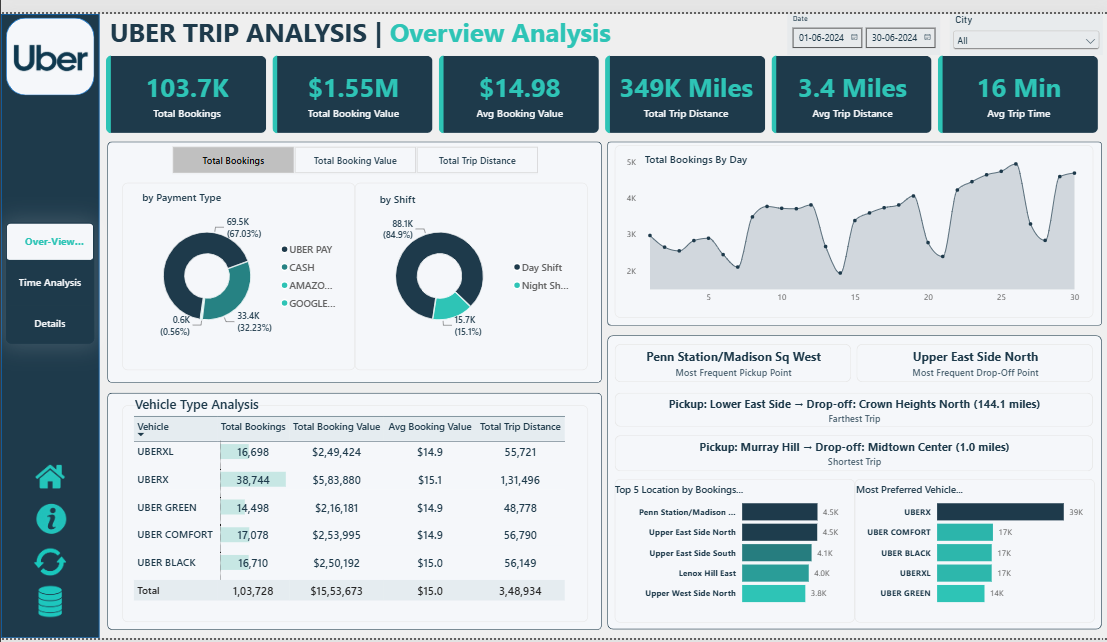

This screenshot's page, from the dashboard's own definition file:
{"tool":"powerbi","page":{"name":"Over-View Analysis","canvas":[1600,900],"ordinal":0},"visuals":[{"type":"shape","box":[875.4,463.4,713.7,424.5],"z":0},{"type":"shape","box":[153.1,183.5,713.7,348.3],"z":1000},{"type":"shape","box":[0,0,142,900.3],"z":2000},{"type":"textbox","box":[157,0,729.3,59.1],"z":3000},{"type":"cardVisual","fields":{"Data":["Measure.Total Bookings","Measure.Total Booking Amount","Measure.Avg Booking Amount","Measure.Total Trip Distance","Measure.Avg Trip Distance","Measure.Avg Trip Time"]},"box":[152.4,59.1,1436.8,113.5],"z":4000},{"type":"slicer","fields":{"Values":["Dynamic Measure.Dynamic Measure"]},"box":[227.7,189.7,566,42],"z":5000},{"type":"donutChart","fields":{"Category":["fact_ubertrip.PaymentType"],"Y":["Measure.Total Bookings"]},"box":[174.2,244.1,335.9,270.6],"z":6000},{"type":"textbox","box":[203.7,255,138.4,29.5],"z":7000},{"type":"donutChart","fields":{"Category":["fact_ubertrip.Trip Shift"],"Y":["Measure.Total Bookings"]},"box":[510,244.1,335.9,270.6],"z":8000},{"type":"textbox","box":[545.8,256.6,158.6,28],"z":9000},{"type":"shape","box":[153.1,545.8,713.7,342.1],"z":10000},{"type":"pivotTable","fields":{"Rows":["fact_ubertrip.Vehicle"],"Values":["Measure.Total Bookings","Measure.Total Booking Value","Measure.Avg Booking Value","Measure.Total Trip Distance."]},"box":[174.2,564.4,671.7,312.5],"z":11000},{"type":"textbox","box":[192.8,550.5,191.3,28],"z":12000},{"type":"shape","box":[875.4,183.5,713.7,265.9],"z":13000},{"type":"areaChart","fields":{"Category":["Calendar.Date.Variation.Date Hierarchy.Day"],"Y":["Measure.Total Bookings"]},"box":[886.3,189.7,690.4,248.8],"z":14000},{"type":"textbox","box":[928.3,199,157,32.7],"z":15000},{"type":"cardVisual","fields":{"Data":["Measure.Most Frequent Pickup Point","Measure.Most Frequent Drop-Off Point"]},"box":[886.3,475.8,690.4,56],"z":16000},{"type":"cardVisual","fields":{"Data":["Measure.Farthest Trip"]},"box":[886.3,545.8,690.4,49.8],"z":17000},{"type":"cardVisual","fields":{"Data":["Measure.Shortest Trip"]},"box":[886.3,608,690.4,52.9],"z":18000},{"type":"barChart","fields":{"Category":["dim_location.Location"],"Y":["Measure.Total Bookings"]},"box":[886.3,670.2,346.8,206.8],"z":19000},{"type":"textbox","box":[886.3,676.4,300.1,40.4],"z":20000},{"type":"barChart","fields":{"Category":["fact_ubertrip.Vehicle"],"Y":["CountNonNull(fact_ubertrip.PULocationID)"]},"box":[1231.5,670.2,346.8,206.8],"z":21000},{"type":"textbox","box":[1233.1,676.4,300.1,40.4],"z":22000},{"type":"slicer","fields":{"Values":["Calendar.Date"]},"box":[1133.6,0,220.8,59.1],"z":23000},{"type":"slicer","fields":{"Values":["dim_location.City"]},"box":[1368.4,0,220.8,59.1],"z":24000},{"type":"shape","box":[7.8,4.7,127.5,112],"z":25000},{"type":"pageNavigator","box":[7.8,301.7,127.5,174.2],"z":26000},{"type":"image","box":[0,1.6,141.5,116.6],"z":27000},{"type":"image","box":[46.6,634.4,48.2,62.2],"z":28000},{"type":"image","box":[48.2,696.6,48.2,62.2],"z":29000},{"type":"image","box":[46.6,758.8,48.2,62.2],"z":30000},{"type":"image","box":[46.6,814.8,48.2,62.2],"z":31000}]}

Visuals, with their boxes on the page's 1600x900 design canvas (x1, y1, x2, y2). These are canvas units, not pixel positions in the 1107x642 screenshot, which may show the page scaled, cropped or inside an application window:
shape: Rect(875, 463, 1589, 888)
shape: Rect(153, 184, 867, 532)
shape: Rect(0, 0, 142, 900)
textbox: Rect(157, 0, 886, 59)
cardVisual - Measure.Total Bookings x Measure.Total Booking Amount: Rect(152, 59, 1589, 173)
slicer - Dynamic Measure.Dynamic Measure: Rect(228, 190, 794, 232)
donutChart - fact_ubertrip.PaymentType x Measure.Total Bookings: Rect(174, 244, 510, 515)
textbox: Rect(204, 255, 342, 284)
donutChart - fact_ubertrip.Trip Shift x Measure.Total Bookings: Rect(510, 244, 846, 515)
textbox: Rect(546, 257, 704, 285)
shape: Rect(153, 546, 867, 888)
pivotTable - fact_ubertrip.Vehicle x Measure.Total Bookings: Rect(174, 564, 846, 877)
textbox: Rect(193, 550, 384, 578)
shape: Rect(875, 184, 1589, 449)
areaChart - Calendar.Date.Variation.Date Hierarchy.Day x Measure.Total Bookings: Rect(886, 190, 1577, 438)
textbox: Rect(928, 199, 1085, 232)
cardVisual - Measure.Most Frequent Pickup Point x Measure.Most Frequent Drop-Off Point: Rect(886, 476, 1577, 532)
cardVisual - Measure.Farthest Trip: Rect(886, 546, 1577, 596)
cardVisual - Measure.Shortest Trip: Rect(886, 608, 1577, 661)
barChart - dim_location.Location x Measure.Total Bookings: Rect(886, 670, 1233, 877)
textbox: Rect(886, 676, 1186, 717)
barChart - fact_ubertrip.Vehicle x CountNonNull(fact_ubertrip.PULocationID): Rect(1232, 670, 1578, 877)
textbox: Rect(1233, 676, 1533, 717)
slicer - Calendar.Date: Rect(1134, 0, 1354, 59)
slicer - dim_location.City: Rect(1368, 0, 1589, 59)
shape: Rect(8, 5, 135, 117)
pageNavigator: Rect(8, 302, 135, 476)
image: Rect(0, 2, 142, 118)
image: Rect(47, 634, 95, 697)
image: Rect(48, 697, 96, 759)
image: Rect(47, 759, 95, 821)
image: Rect(47, 815, 95, 877)
